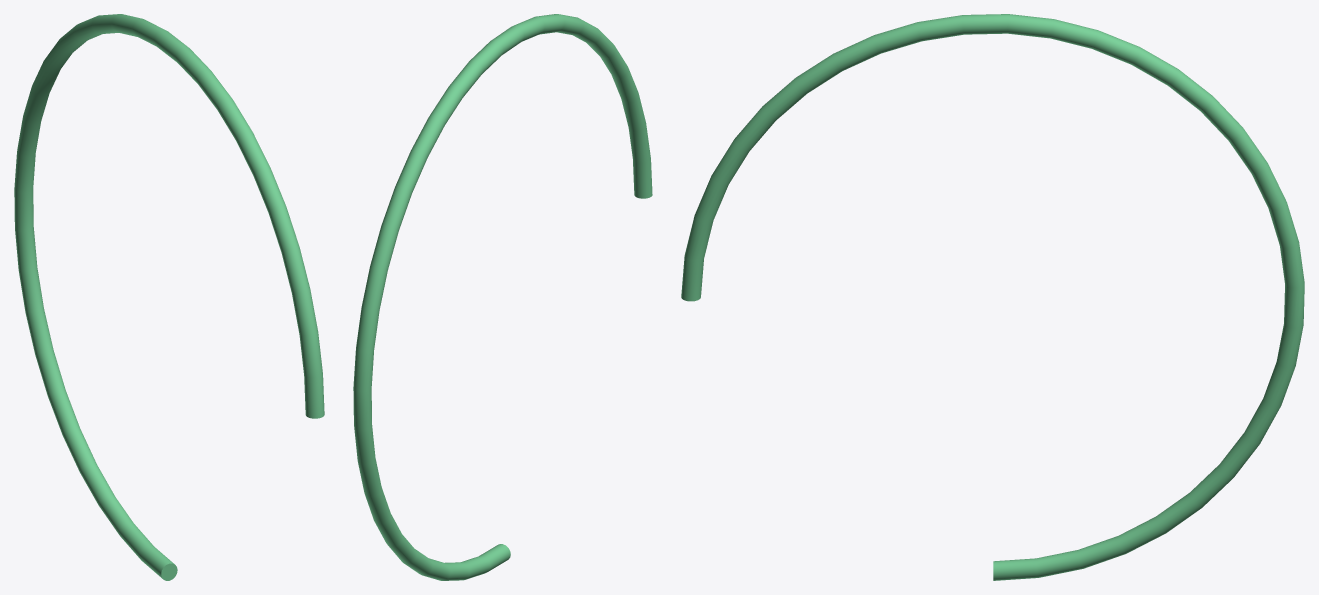
The model's file is CthinRing.fbx.
3 renders of one model, left to right at view 1: azimuth 30°, elevation 25°; view 2: azimuth 150°, elevation 25°; view 3: azimuth 270°, elevation 25°, orthographic. The views are drawn at different scales.
Parts seen in each view (by area): view 1: Torus_38; view 2: Torus_38; view 3: Torus_38.
Boxes of the visible parts, x1,y1,x2,y2 form: Torus_38: [14, 14, 324, 580]; Torus_38: [353, 14, 652, 580]; Torus_38: [681, 14, 1304, 580].
Bounding box in the file's own units: 24 × 758 × 758.
